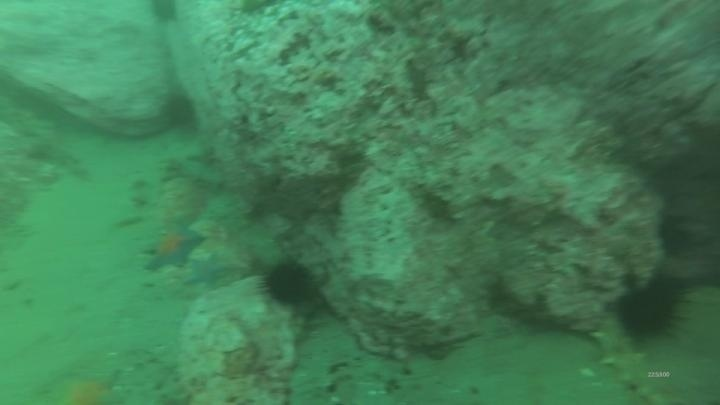echinus: (611, 274, 688, 345), (258, 257, 318, 310), (160, 90, 200, 133), (146, 0, 182, 27)
holothurian: (588, 313, 668, 404)
starfish: (140, 220, 207, 274), (46, 365, 126, 405), (181, 251, 236, 291)
